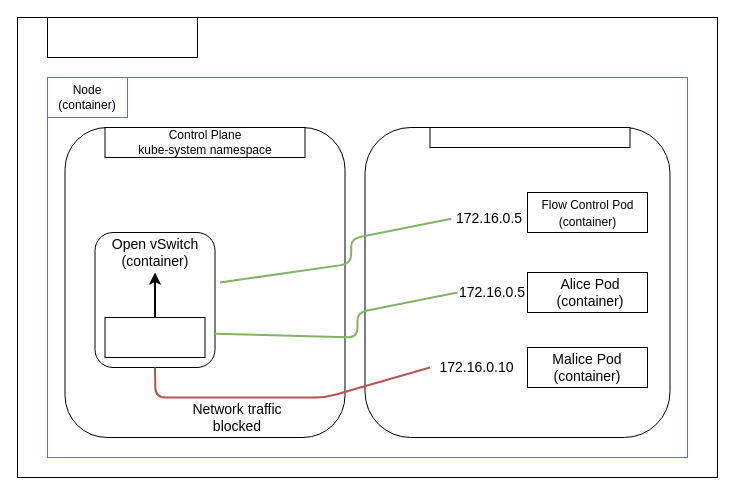
Image size: 735x495. Some labels were removed from this diagram. The centre of each missing label's shape, as x and y in pixels:
"default namespace" belongs at [529,137].
"Minikube Cluster (host)" belongs at [122,37].
"OVS controller" belongs at [154,337].
